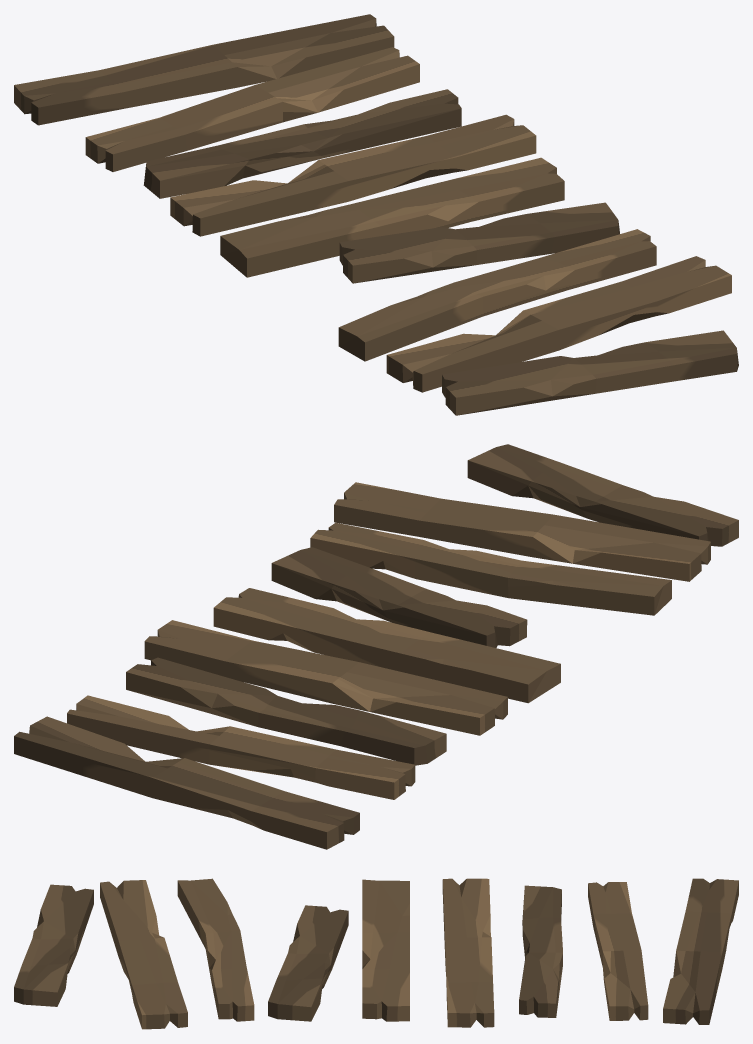
Rendered from SM_Env_Road_Planks_01.fbx.
3 views of the same model, one above another, from view 1: azimuth 30°, elevation 25°; view 2: azimuth 150°, elevation 25°; view 3: azimuth 270°, elevation 25° (orthographic). The views are drawn at different scales.
Parts seen in each view (by area): view 1: SM_Env_Road_Planks_01; view 2: SM_Env_Road_Planks_01; view 3: SM_Env_Road_Planks_01.
Part boxes in pixels (bbox=[...]): SM_Env_Road_Planks_01: bbox=[14, 14, 738, 415]; SM_Env_Road_Planks_01: bbox=[14, 444, 738, 849]; SM_Env_Road_Planks_01: bbox=[14, 878, 738, 1029].
Size of the model in its own units: 183 by 12.37 by 413.
